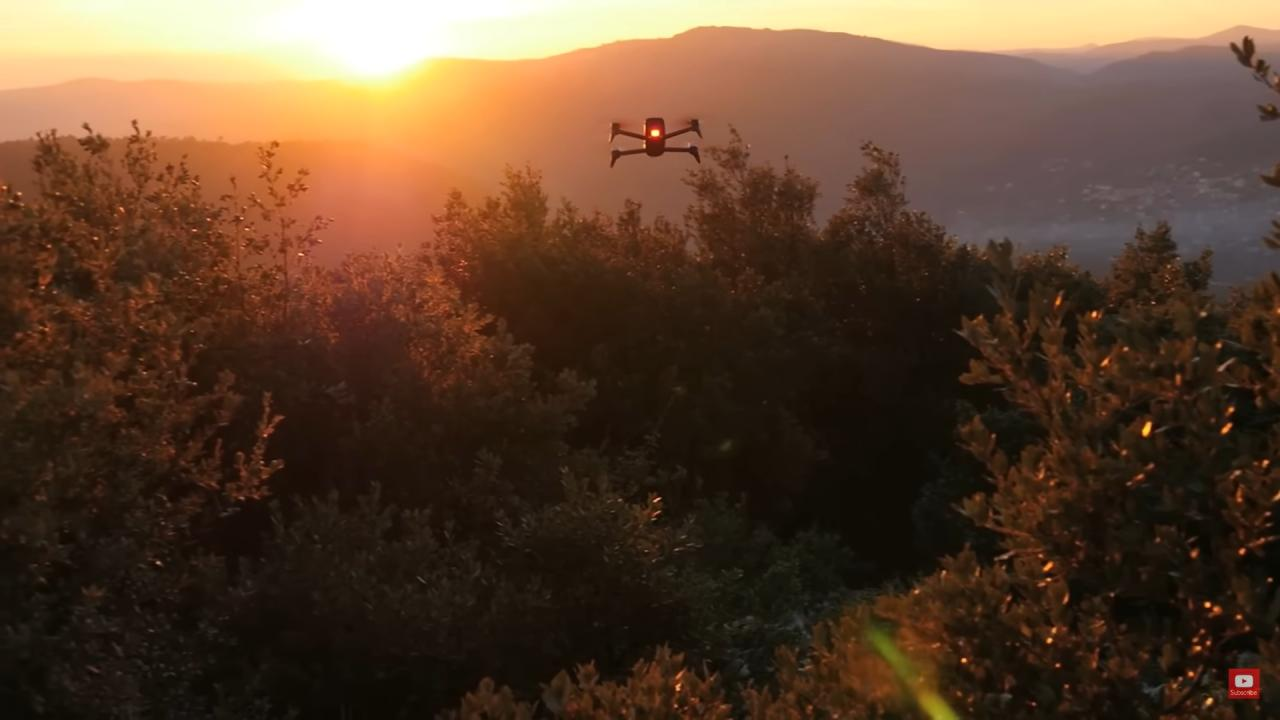Drone: (601, 108, 712, 178)
